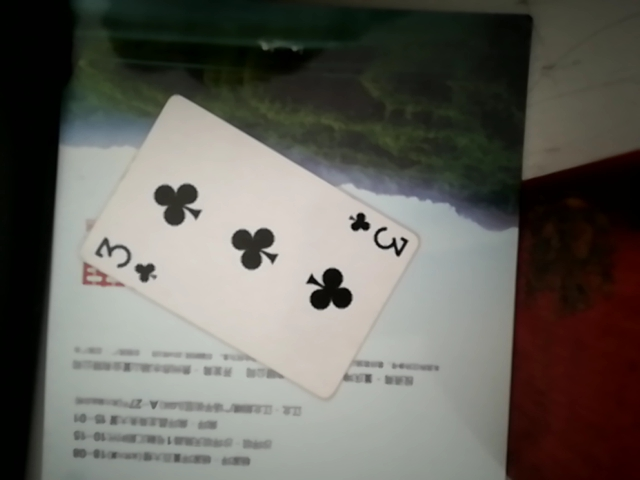mh 3: (64, 102, 421, 389)
